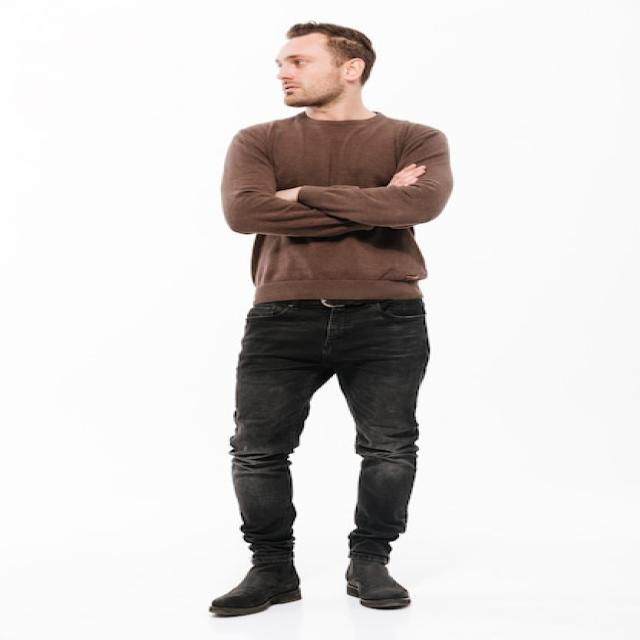Person: (209, 22, 451, 616)
